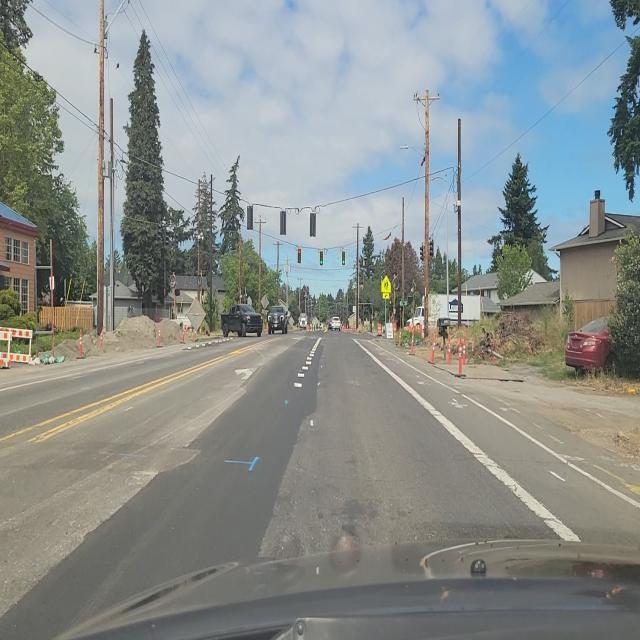car: (562, 308, 640, 380), (220, 303, 264, 338), (267, 306, 290, 335), (328, 316, 342, 332)
crosswalk-sign: (381, 275, 391, 299)
delineator: (457, 338, 464, 378), (429, 334, 436, 364), (446, 336, 452, 366), (99, 327, 105, 349), (410, 328, 415, 354), (7, 343, 12, 368), (79, 327, 83, 357), (181, 324, 187, 343), (462, 338, 466, 366), (397, 327, 402, 349), (157, 326, 162, 347), (193, 326, 197, 342), (420, 323, 424, 339), (306, 323, 311, 331)
